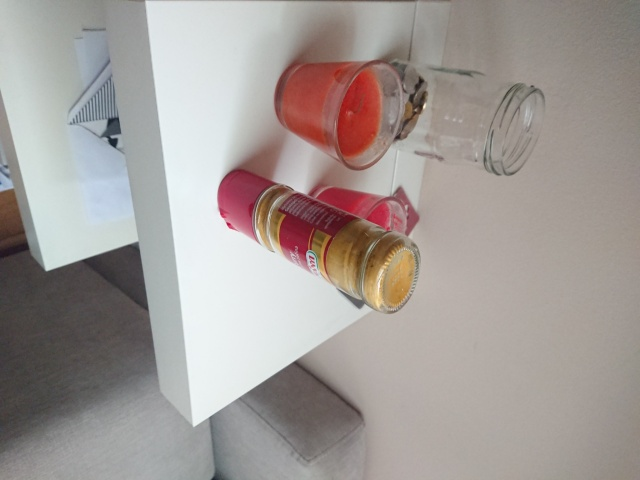Kotanyi Curry Spices Mix 70g: (214, 166, 424, 317)
